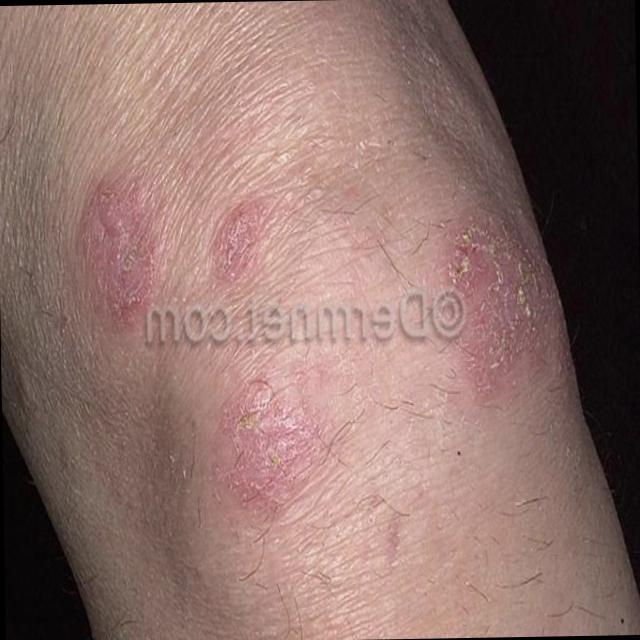Eczema: (68, 146, 538, 548)
